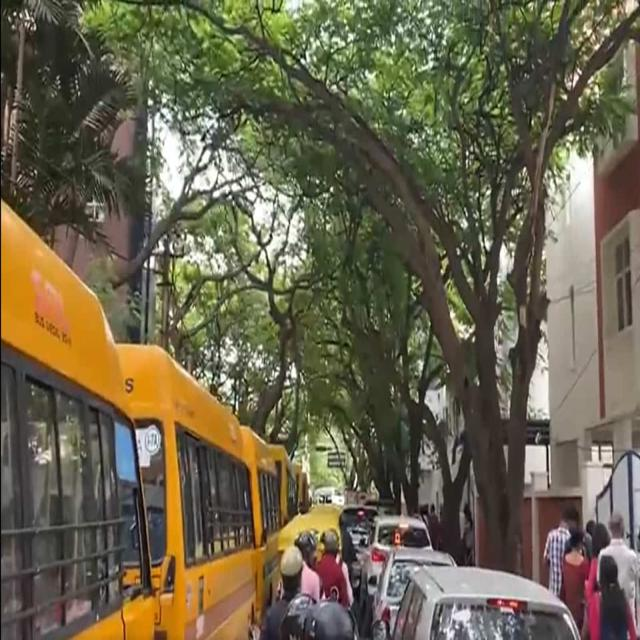bus: (118, 344, 256, 638)
